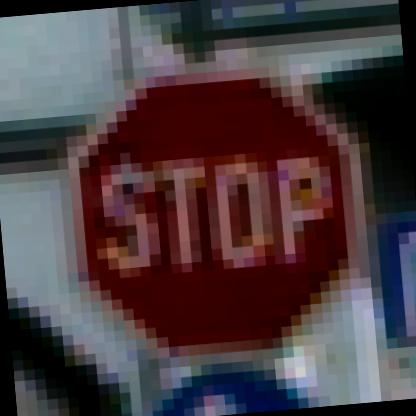stop: (48, 32, 396, 378)
